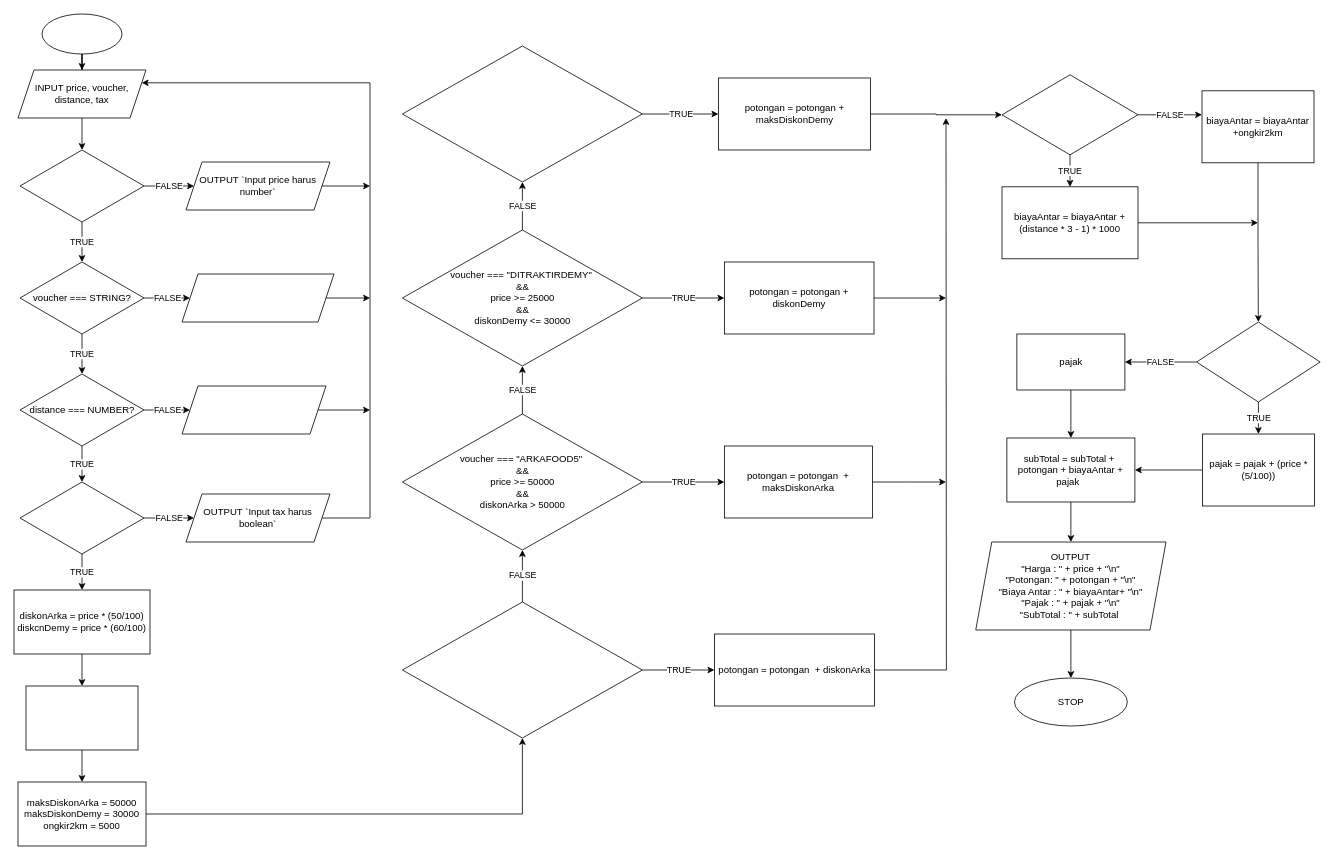
The diagram is 1334 pixels wide and 860 high, and some of its shapes have lost their labels. The shapes that lost their labels are listed below. From the top down, each one's centre as x and y in pixels, then its label:
[81,33]: START
[522,113]: voucher === "DITRAKTIRDEMY" && price >= 25000 && diskonDemy > 30000
[1069,114]: distance > 2
[81,185]: price === NUMBER?
[257,297]: OUTPUT `Input voucher harus string`
[1258,361]: tax === true
[253,409]: OUTPUT `Input distance harus number`
[81,517]: tax === BOOLEAN?
[522,669]: voucher === "ARKAFOOD5" && price >= 50000 && diskonArka <= 50000
[81,717]: potongan = 0 biayaAntar = 0 pajak = 0 subTotal = 0
